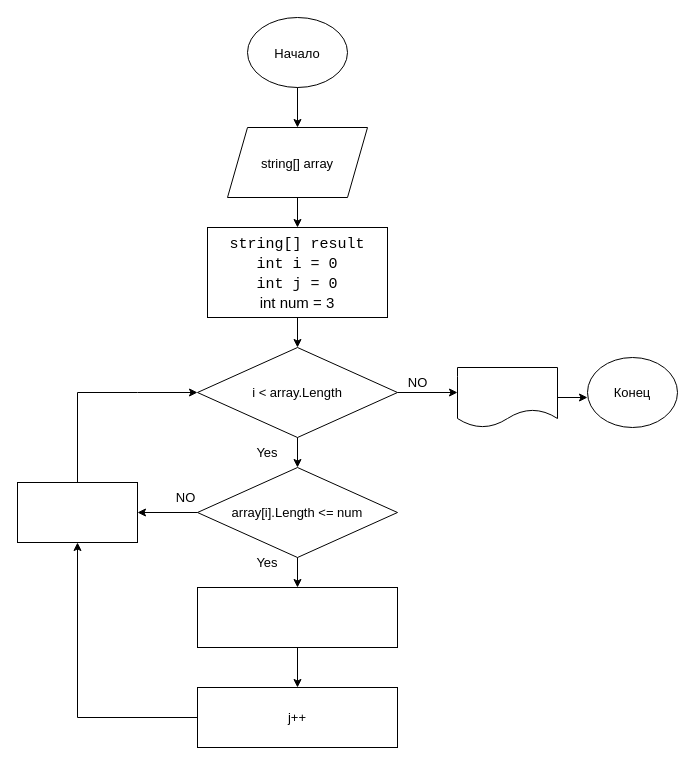
This 695x765 diagram has some shape labels left out. Here are the shapes that lost their labels. From the top down, the centre of each, then its label:
At point 507,397: "print result".
At point 77,512: "i++".
At point 297,617: "result[j] = array[i]".
